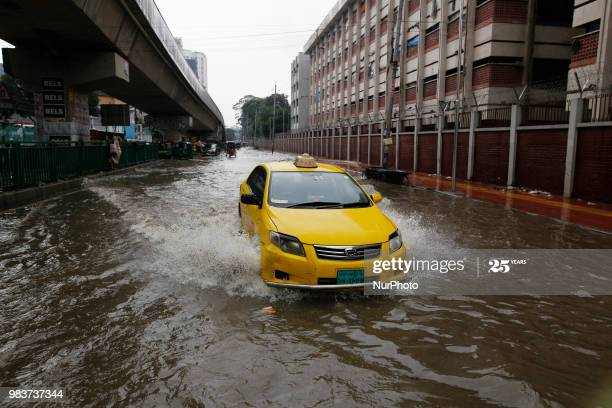car: (202, 141, 220, 156)
rickshaw: (225, 140, 235, 157)
taxi: (238, 153, 409, 292)
three wheelers (CNG): (173, 141, 192, 159)
